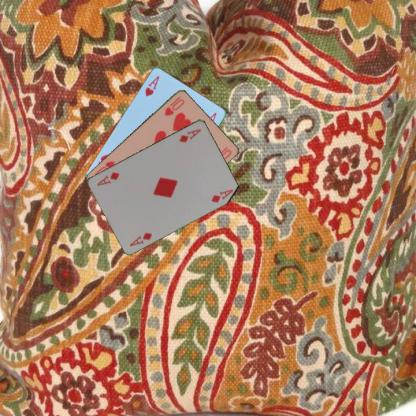10h: (162, 93, 185, 116)
Ad: (127, 230, 154, 248), (176, 126, 202, 144)
Ah: (142, 72, 161, 98)
